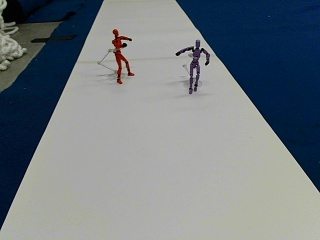pedestrian: (175, 39, 210, 91), (111, 28, 133, 83)
